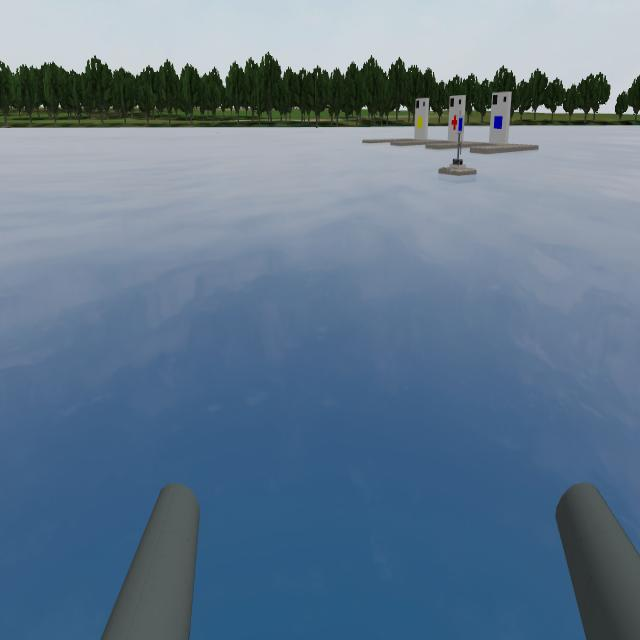blue_pole: (455, 111, 469, 138)
